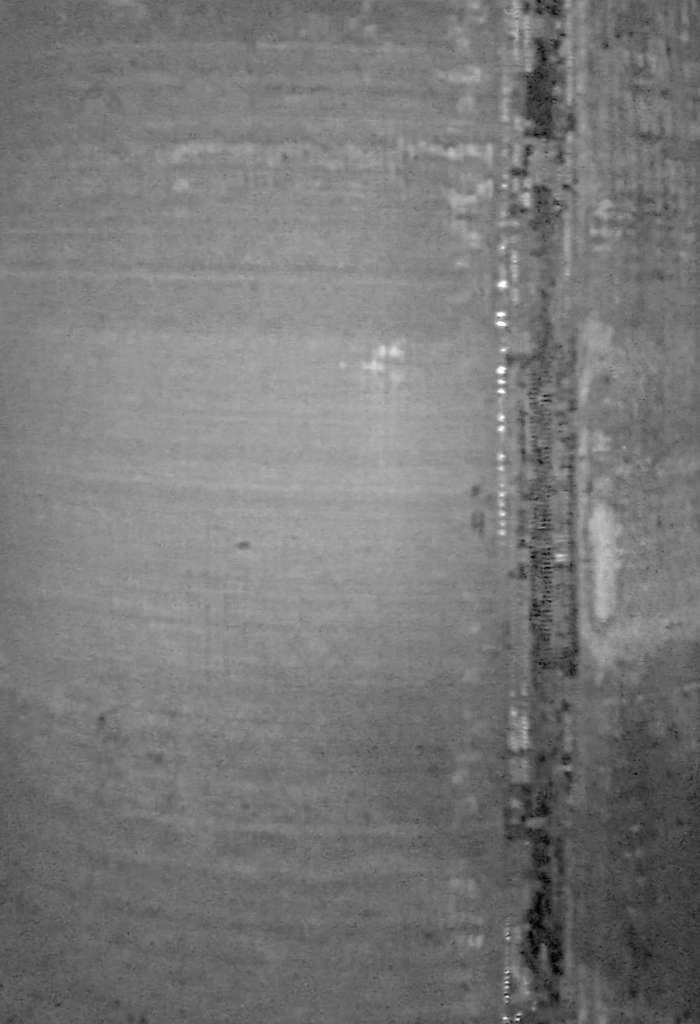splice: (479, 2, 596, 1019)
